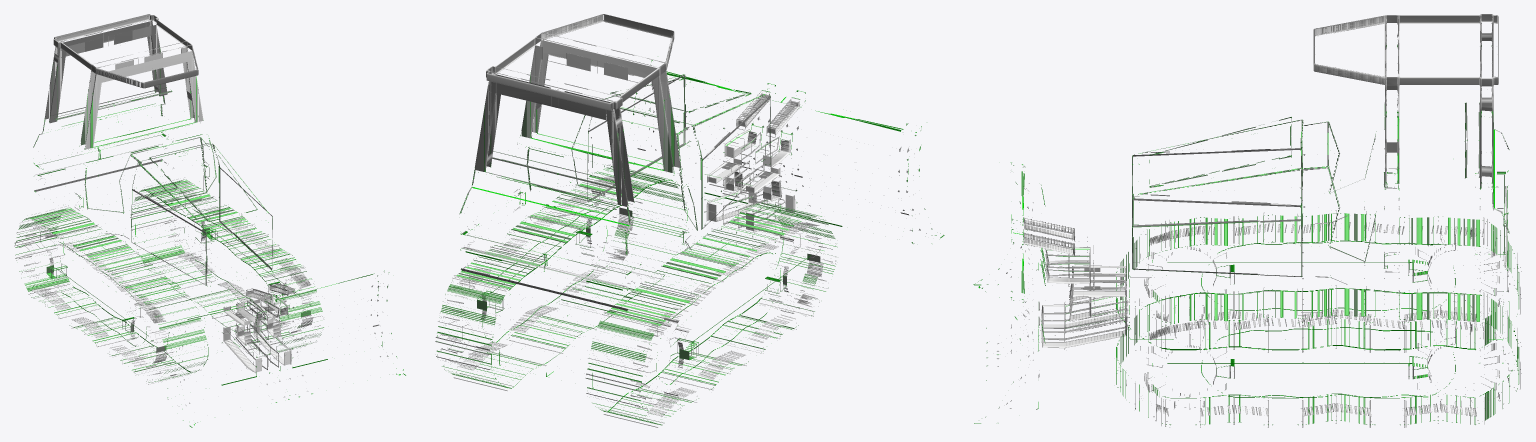
The model's file is Bulldozer export.FBX.
The picture shows the model from 3 angles, left to right: view 1: azimuth 30°, elevation 25°; view 2: azimuth 150°, elevation 25°; view 3: azimuth 270°, elevation 25°; orthographic projection. The views are drawn at different scales.
Visible parts, largest first — view 1: Box003; view 2: Box003; view 3: Box003.
Boxes of the visible parts, x1,y1,x2,y2 form: Box003: (14, 14, 405, 427); Box003: (435, 14, 944, 427); Box003: (973, 14, 1521, 427).
Bounding box in the file's own units: 84.09 × 93.21 × 140.
